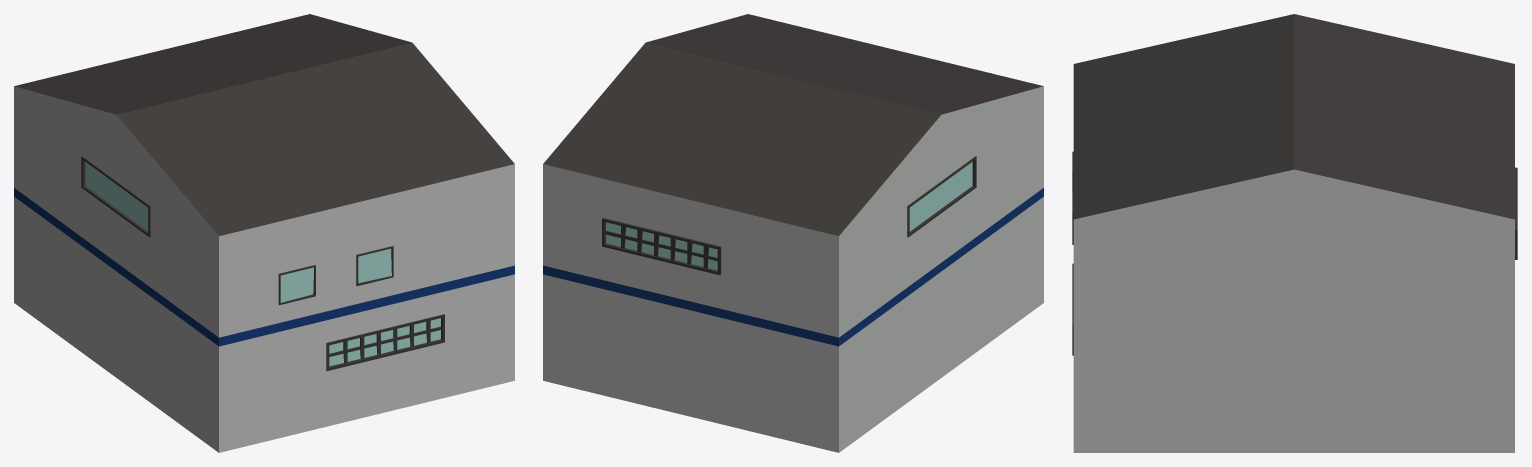
Rendered from SM_Factory_Warehouse_04.glb.
3 renders of one model, left to right at view 1: azimuth 30°, elevation 25°; view 2: azimuth 150°, elevation 25°; view 3: azimuth 270°, elevation 25°, orthographic. The views are drawn at different scales.
Parts seen in each view (by area): view 1: SM_Factory_Warehouse_04; view 2: SM_Factory_Warehouse_04; view 3: SM_Factory_Warehouse_04.
Boxes of the visible parts, x1=… form: SM_Factory_Warehouse_04: x1=14, y1=14, x2=514, y2=452; SM_Factory_Warehouse_04: x1=543, y1=14, x2=1043, y2=452; SM_Factory_Warehouse_04: x1=1072, y1=14, x2=1517, y2=452.
Bounding box in the file's own units: 10.04 × 8.5 × 12.11.
Materials: 1 (1 with a texture image).
